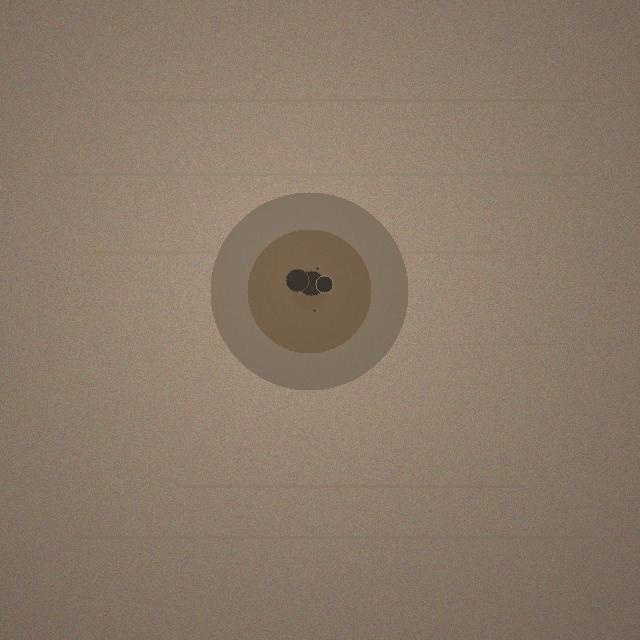shrinkage: (210, 192, 408, 390)
